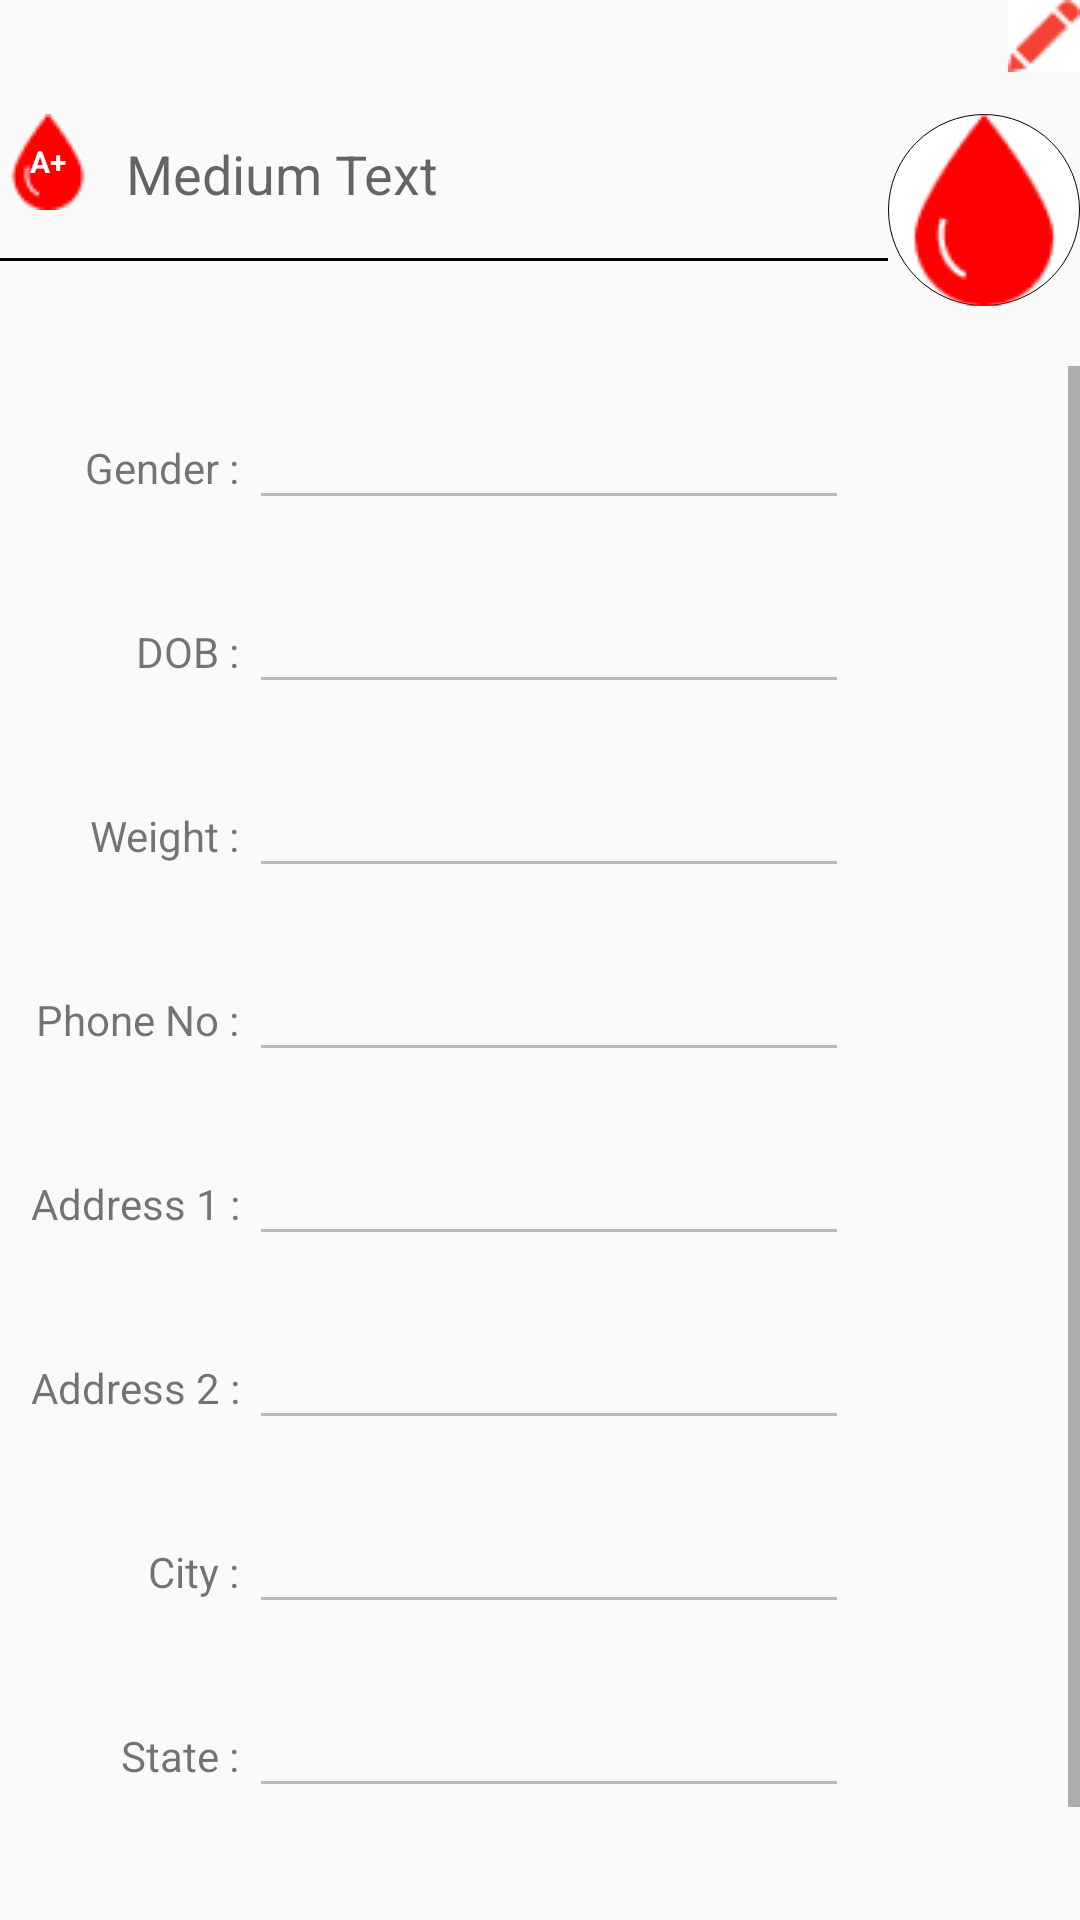

Screen size 1080×1920. Icon name, then its box in pixels as (x1, y1, x2, y2):
blood: (888, 114, 1080, 306)
edit: (1008, 0, 1080, 72)
